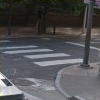crosswalk: (0, 44, 91, 65)
